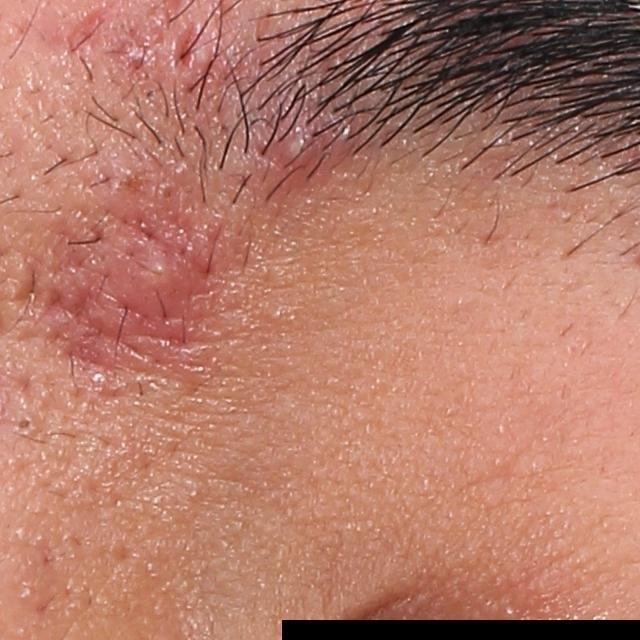atrophic_scar: (13, 252, 45, 318)
comedo: (42, 278, 96, 328), (165, 27, 205, 81), (9, 410, 40, 434)
pustule: (123, 233, 180, 298)
